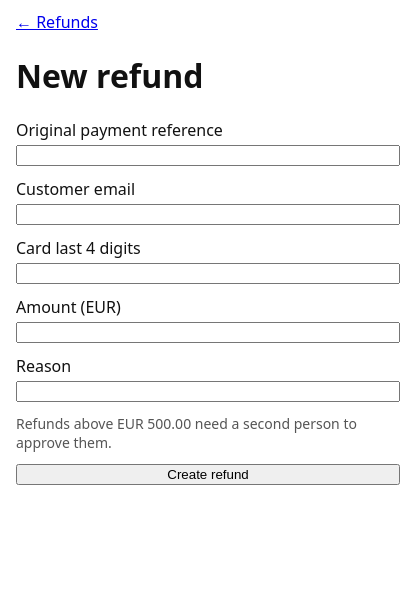
New refund form › refuses an invalid amount before sending
The image size is (417, 590).
Type "pay_1001" into the field labelled "Original payment reference" at (208, 155), box [16,145,400,166]
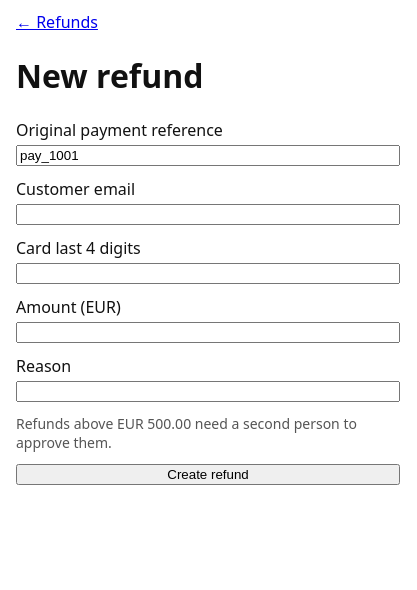
Type "jane.doe@example.com" into the field labelled "Customer email" at (208, 214), box [16,204,400,225]
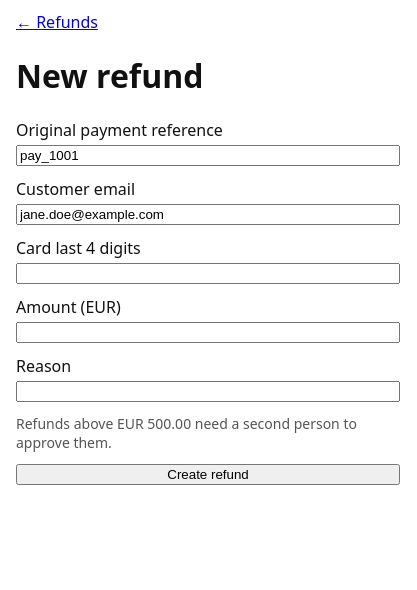
Type "4242" into the field labelled "Card last 4 digits" at (208, 273), box [16,263,400,284]
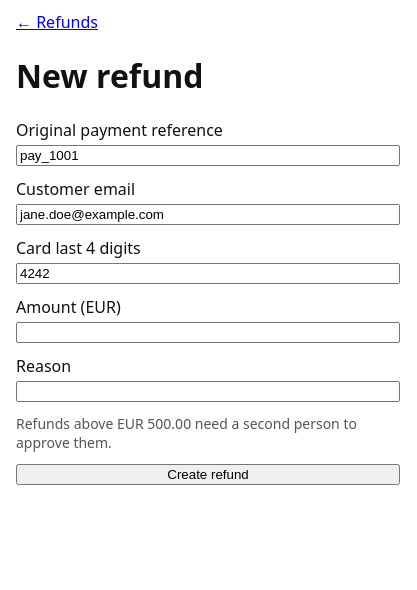
Type "12.345" into the field labelled "Amount (EUR)" at (208, 332), box [16,322,400,343]
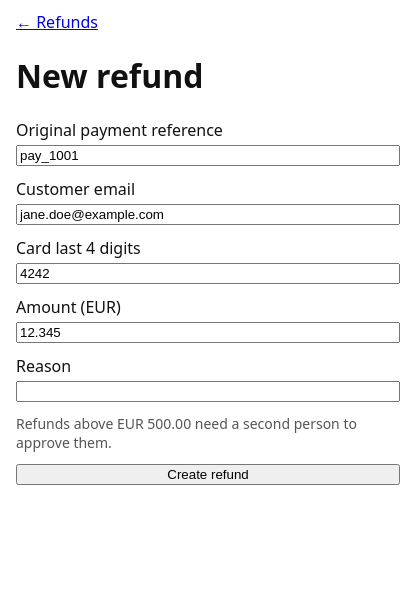
Type "x" into the field labelled "Reason" at (208, 391), box [16,381,400,402]
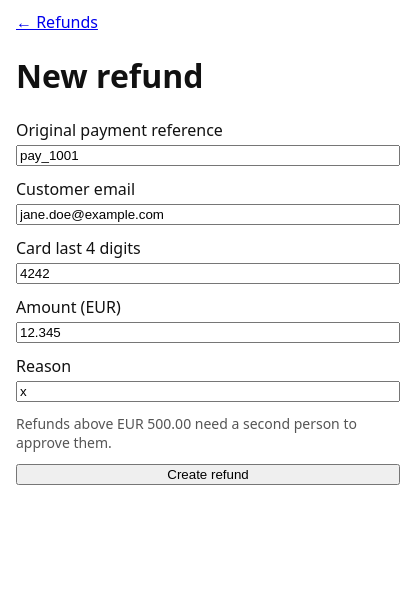
Click the button "Create refund" at (208, 474), box [16,464,400,485]
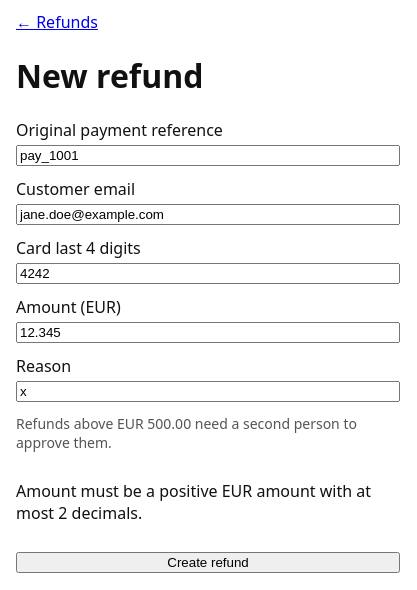
Now the message shows "Amount", box [16,480,371,524]
